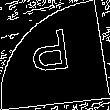P_S: (32, 27, 78, 83)
